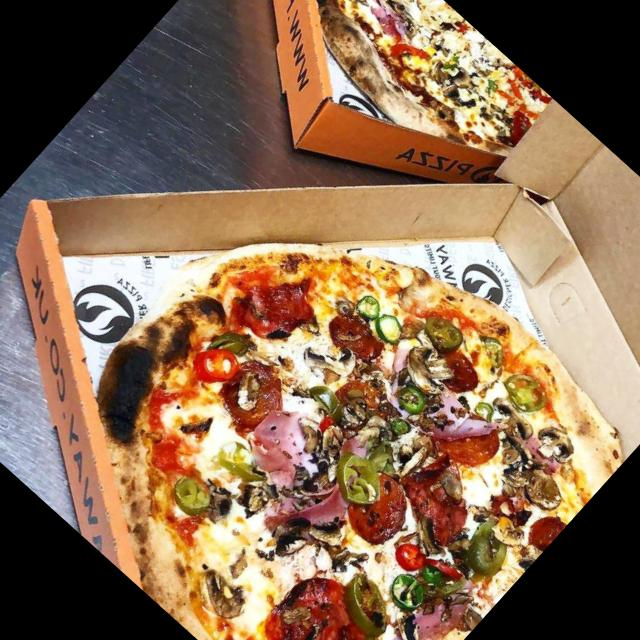mushrooms: (258, 488, 351, 581), (286, 321, 369, 404), (486, 446, 568, 524), (283, 410, 361, 488), (391, 329, 468, 406), (188, 560, 258, 628), (473, 386, 543, 454), (335, 394, 403, 462), (419, 49, 482, 110), (522, 414, 584, 474), (314, 528, 376, 588), (228, 466, 280, 518), (192, 480, 242, 529), (487, 511, 531, 554), (376, 0, 425, 38)
pepperoni: (242, 560, 386, 640), (384, 451, 486, 552), (328, 462, 427, 560), (419, 390, 516, 488), (233, 262, 324, 354), (211, 352, 301, 442), (314, 300, 396, 380), (422, 336, 489, 402), (518, 506, 566, 556)
pizza: (95, 245, 624, 640), (316, 0, 552, 148)
